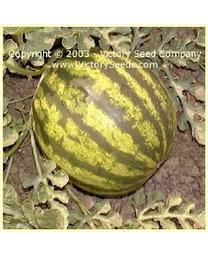watermelon: (27, 53, 175, 198)
